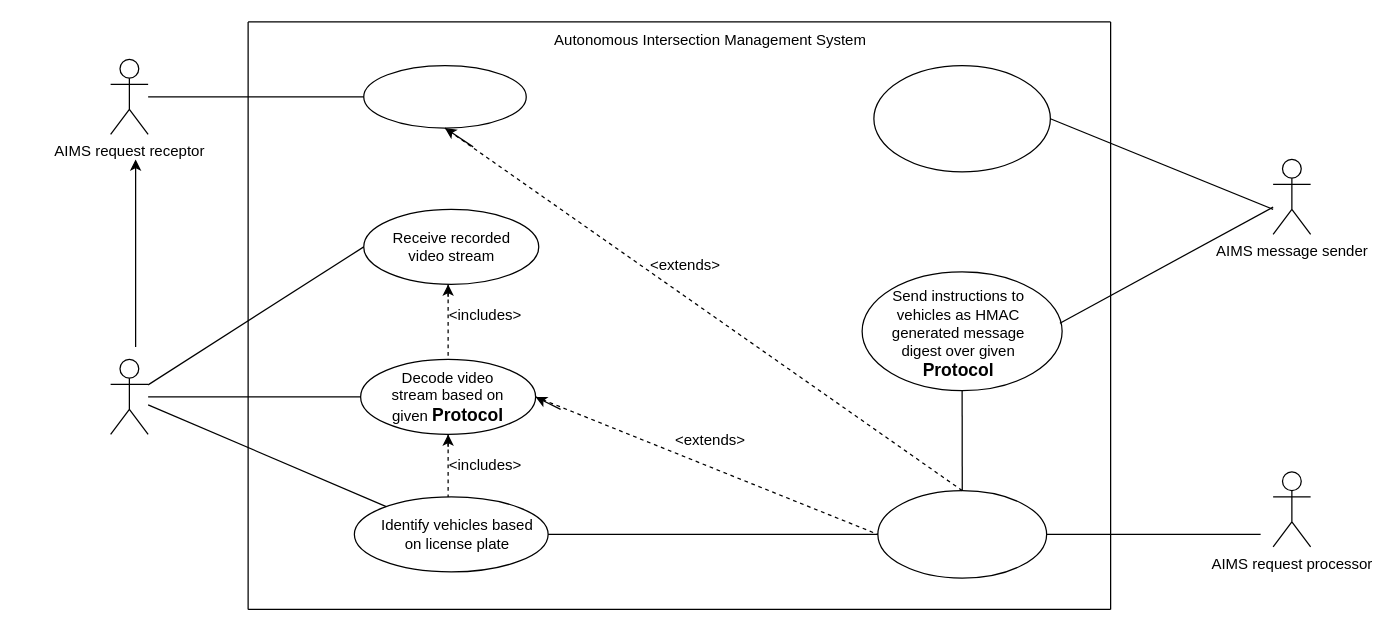
The diagram is 1394 pixels wide and 633 high, and some of its shapes have lost their labels. Here are the shapes that lost their labels. From the top down, the centre of each, then its label:
point (444, 96): Receive emergency vehicle request
point (961, 118): Send intersection status to Smart City Systems over given Protocol
point (128, 396): AIMS Video Processing Module
point (962, 533): Process intersection based on received requests
